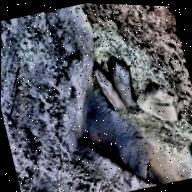boar: (105, 42, 152, 120), (89, 59, 124, 120)
